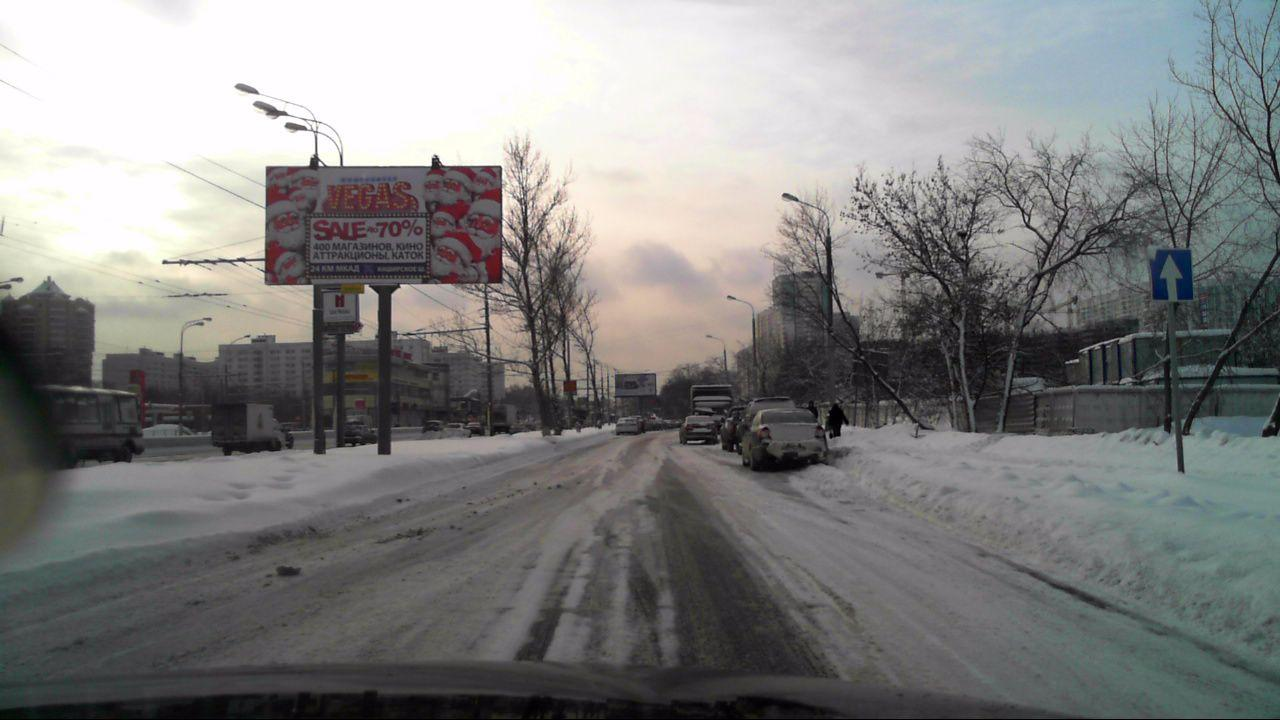5_5: (1151, 249, 1196, 299)
